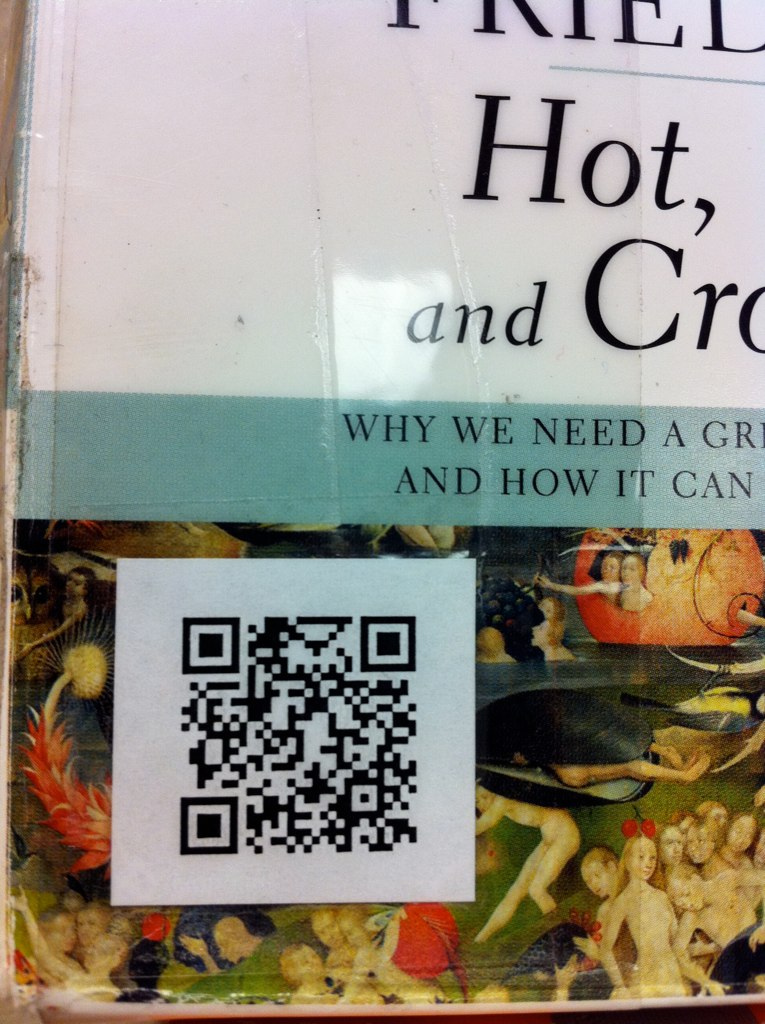QR-CODE: (180, 616, 416, 854)
